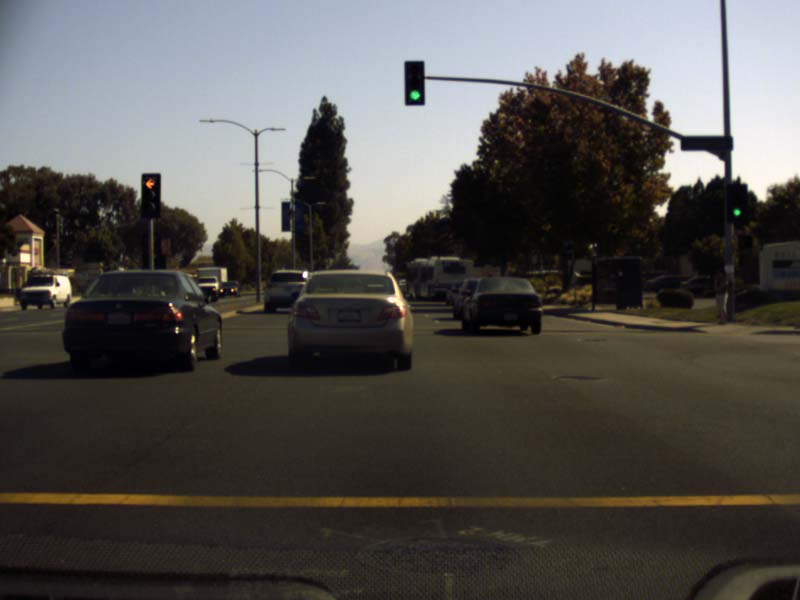Green: (405, 60, 424, 106), (726, 184, 746, 223)
Red: (141, 173, 160, 217)
